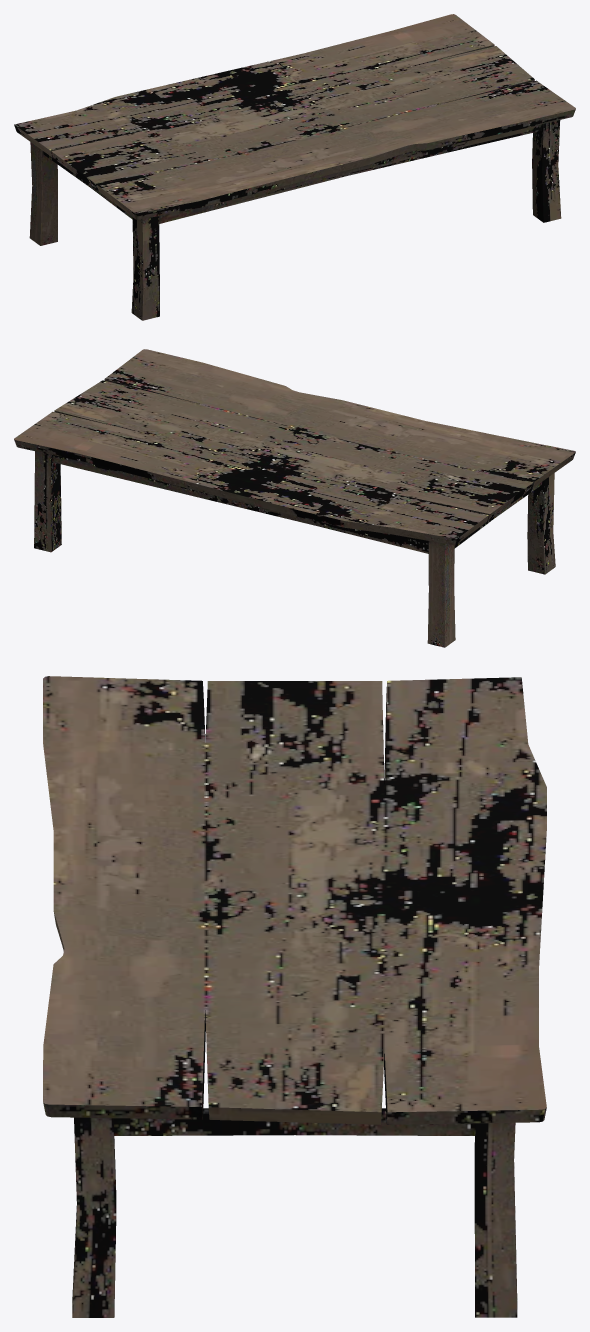
The picture shows the model from 3 angles, top to bottom: view 1: azimuth 30°, elevation 25°; view 2: azimuth 150°, elevation 25°; view 3: azimuth 270°, elevation 25°; orthographic projection. The views are drawn at different scales.
Parts seen in each view (by area): view 1: body0_model0_lod0_mesh0; view 2: body0_model0_lod0_mesh0; view 3: body0_model0_lod0_mesh0.
Part boxes in pixels (x1,y1,x2,y2): body0_model0_lod0_mesh0: [14, 14, 575, 320]; body0_model0_lod0_mesh0: [14, 349, 575, 647]; body0_model0_lod0_mesh0: [43, 676, 546, 1317].
Size of the model in its own units: 166 by 41.03 by 82.42.
Materials: 1 (1 with a texture image).
